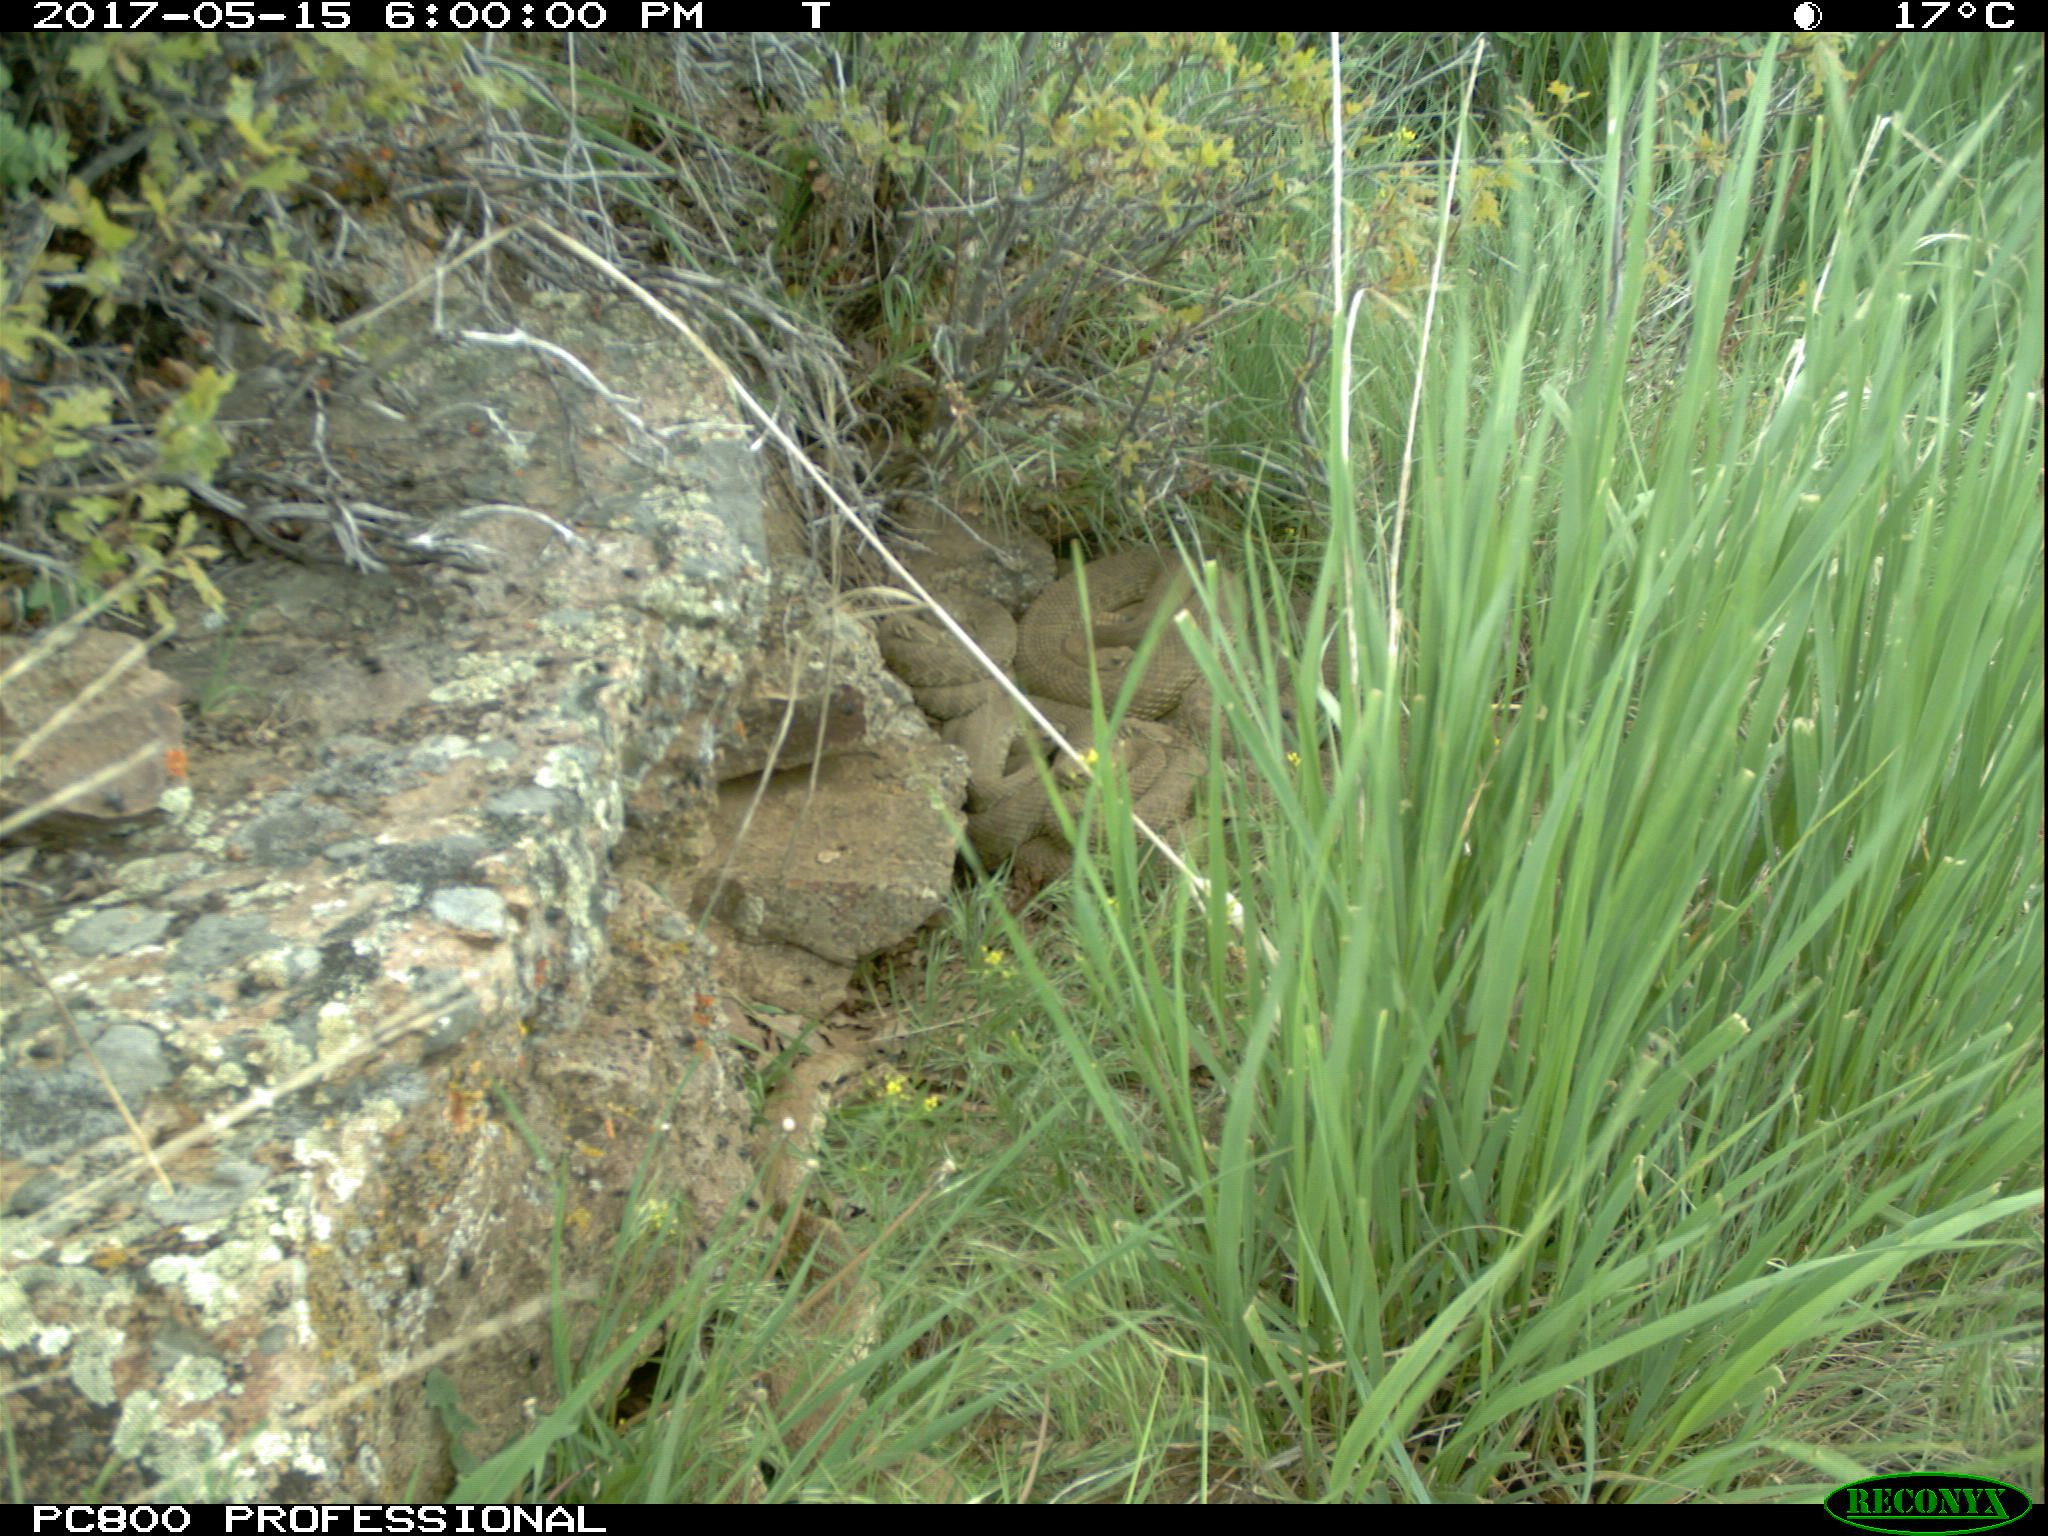snake: (751, 1049, 868, 1476), (1018, 544, 1247, 715), (993, 699, 1218, 837), (877, 592, 1018, 686), (918, 687, 1014, 818)
